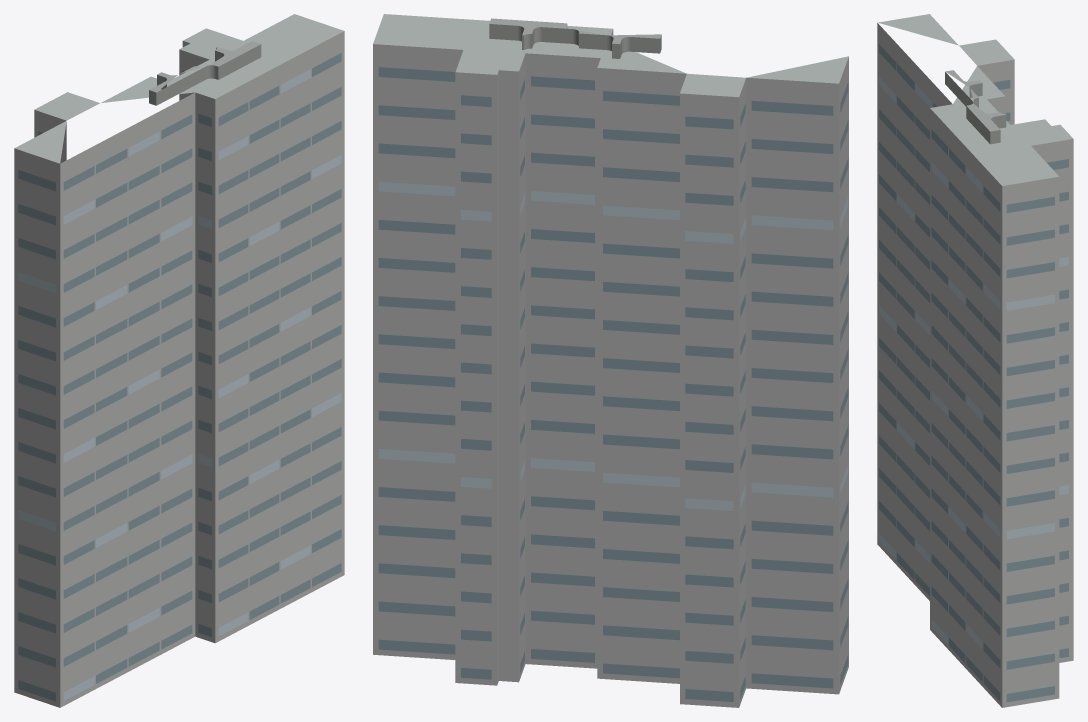
Rendered from fallback-seocho-grand-xi-107.glb.
3 views of the same model, side by side, from view 1: azimuth 30°, elevation 25°; view 2: azimuth 150°, elevation 25°; view 3: azimuth 270°, elevation 25° (orthographic). The views are drawn at different scales.
Visible parts, largest first — view 1: fallback-seocho-grand-xi-107; view 2: fallback-seocho-grand-xi-107; view 3: fallback-seocho-grand-xi-107.
Boxes of the visible parts, x1=… form: fallback-seocho-grand-xi-107: x1=14, y1=14, x2=344, y2=707; fallback-seocho-grand-xi-107: x1=373, y1=14, x2=848, y2=707; fallback-seocho-grand-xi-107: x1=877, y1=14, x2=1073, y2=707.
Bounding box in the file's own units: 69.75 × 101 × 33.59.
